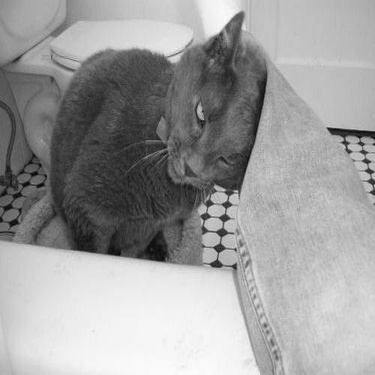cat: (42, 1, 289, 294)
